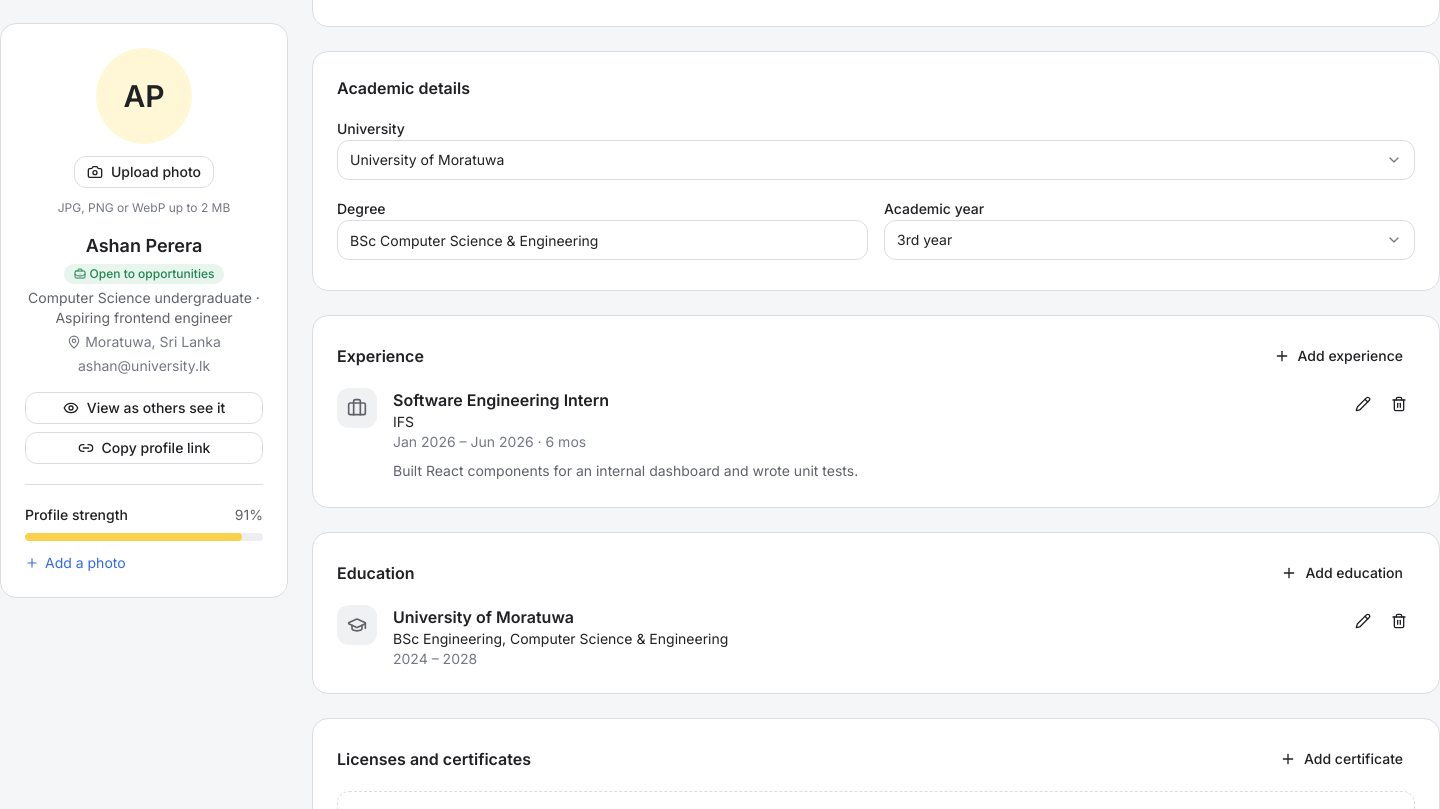
StudentProfileForm › removes an entry and discard brings it back
(page scrolled)
Click the button named "Remove experience". click: (1399, 404)
box: [1383,388,1415,420]
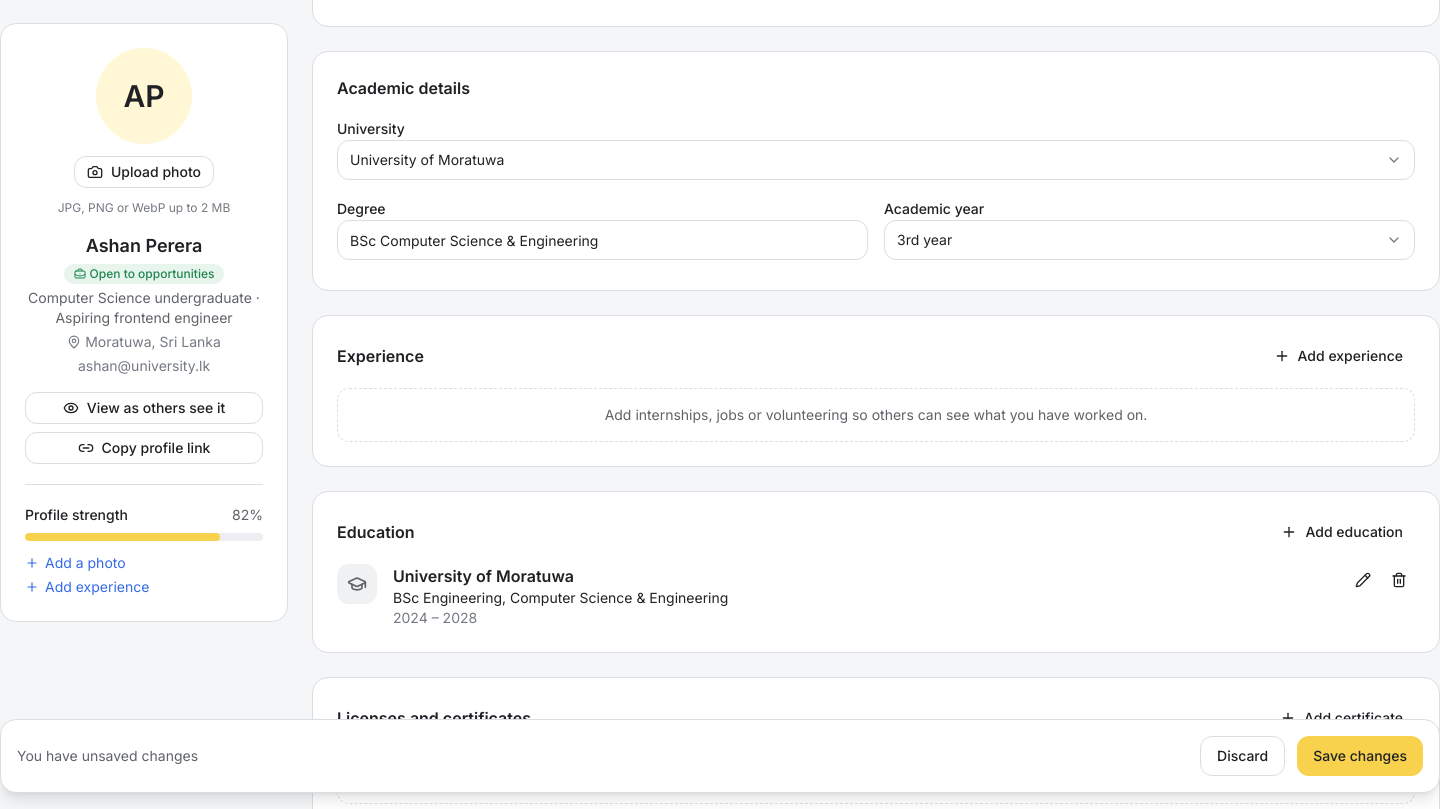
Result: the heading "Software Engineering Intern" is gone
Click the button "Discard". click: (1243, 756)
box: [1200,736,1285,776]
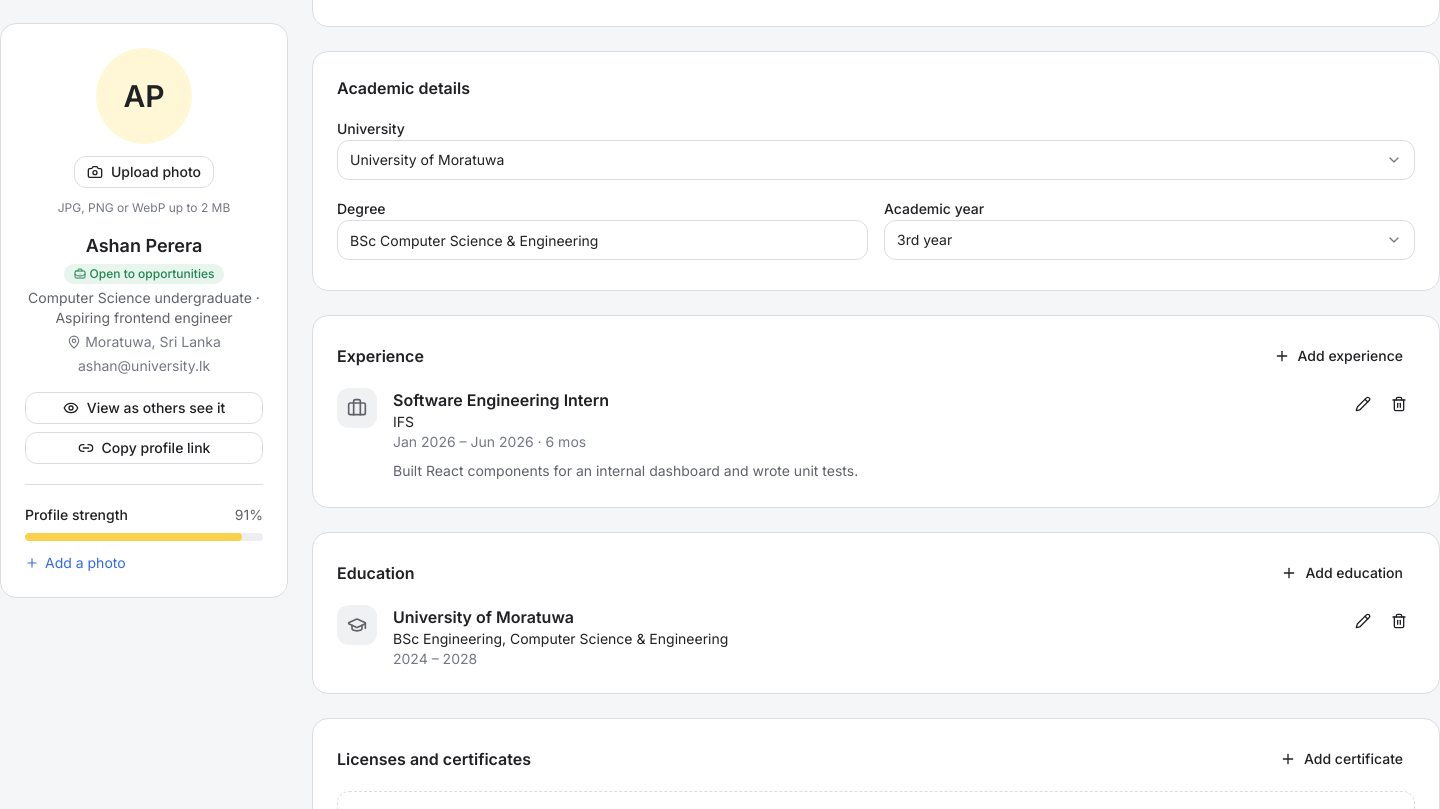
Result: the heading "Software Engineering Intern" is shown at [393,388,609,412]
